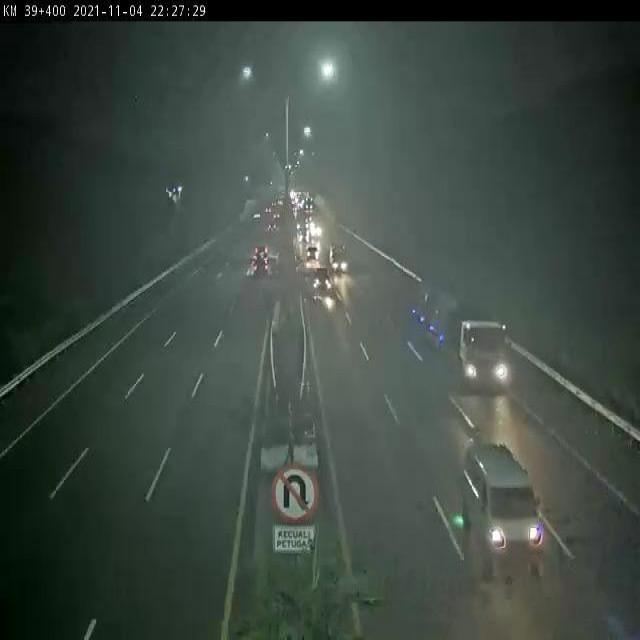car: (460, 442, 541, 554), (311, 265, 332, 292), (251, 261, 268, 280)
truck-s-: (329, 244, 348, 273)
truck-xl-: (411, 283, 511, 388)
